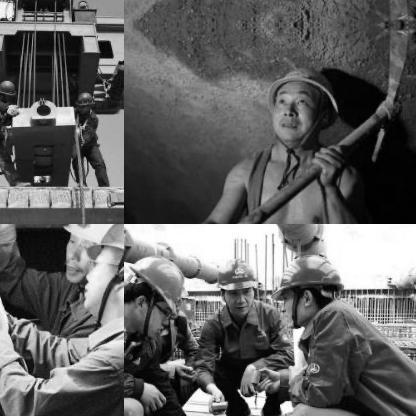Helmet: (258, 57, 342, 147), (271, 249, 345, 322), (124, 251, 184, 336), (78, 224, 123, 322), (60, 224, 123, 291), (209, 251, 257, 315), (0, 76, 20, 104), (70, 90, 93, 110), (406, 290, 416, 298)
